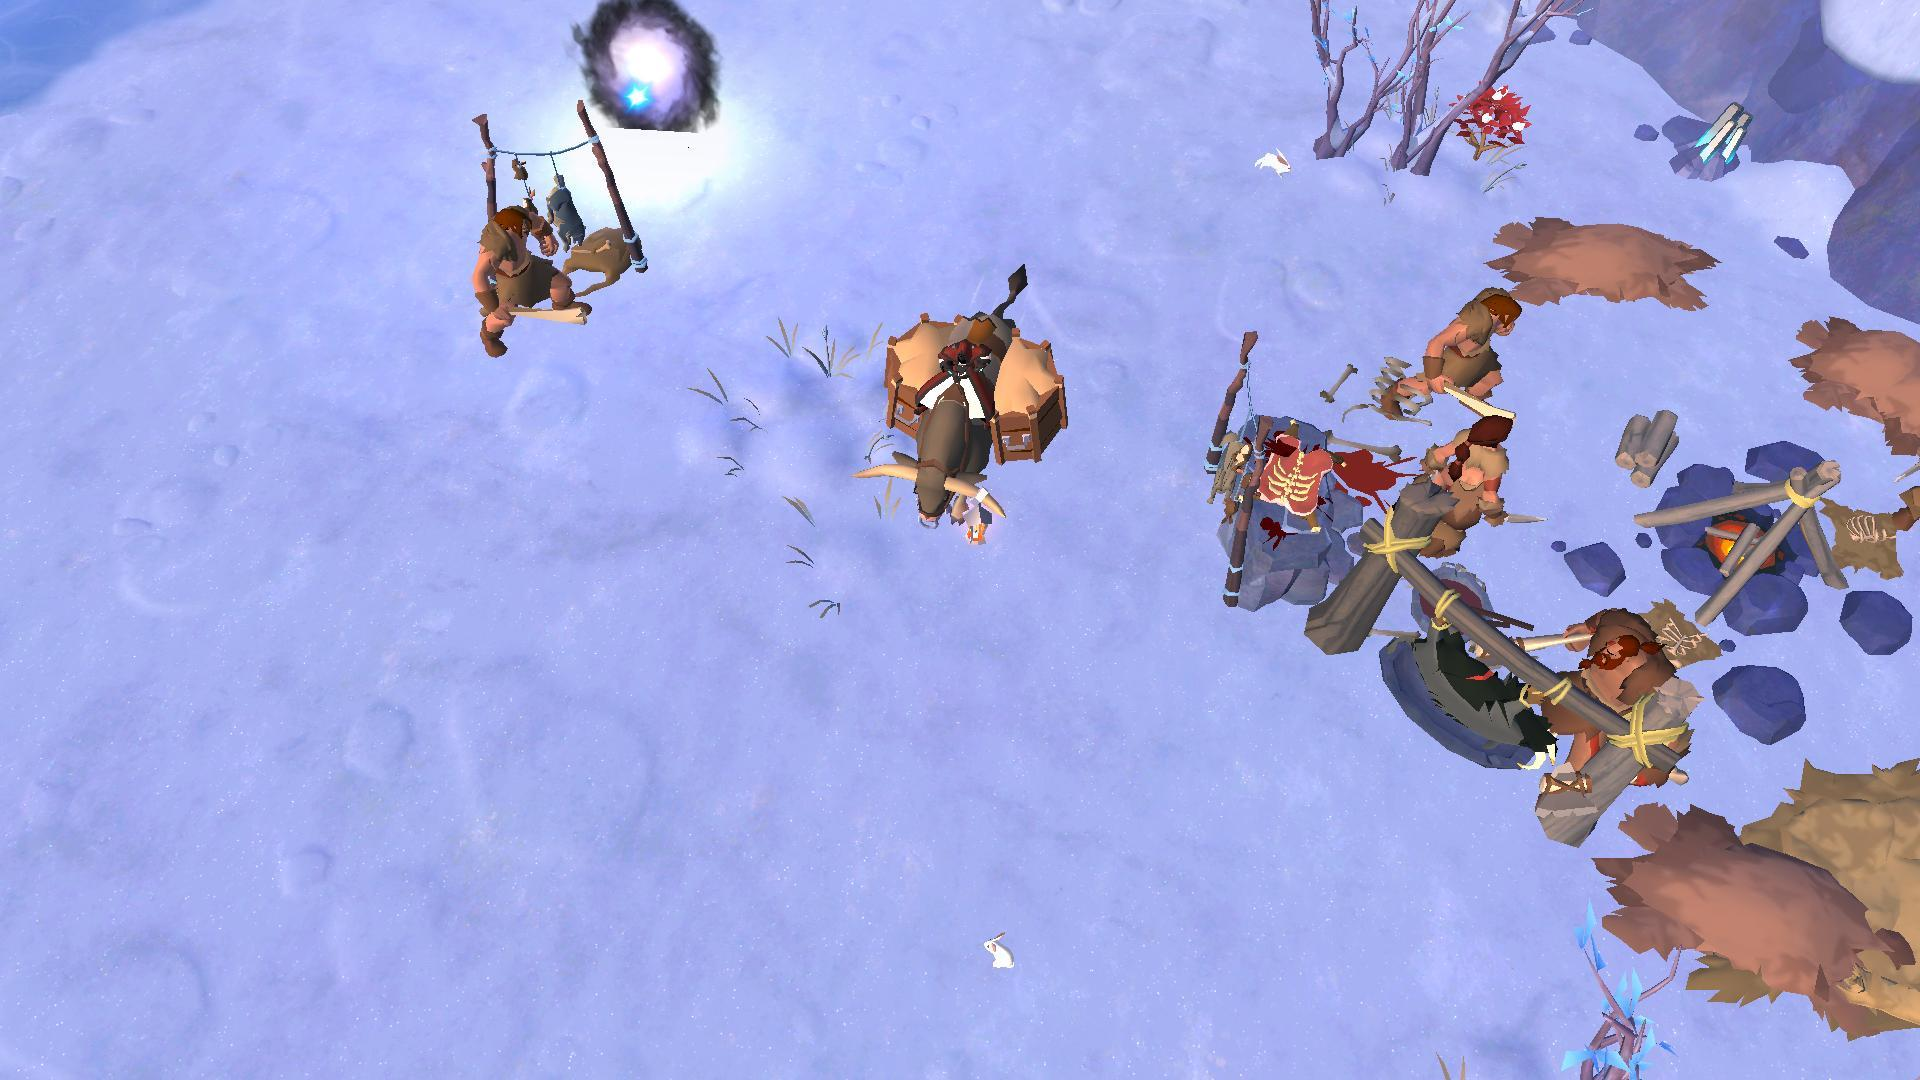enemy_factionKeeper: (1377, 289, 1520, 415), (467, 194, 589, 335), (1402, 413, 1518, 547)
fiber_t5: (1456, 83, 1535, 158)
ore_t4: (1675, 99, 1749, 167)
